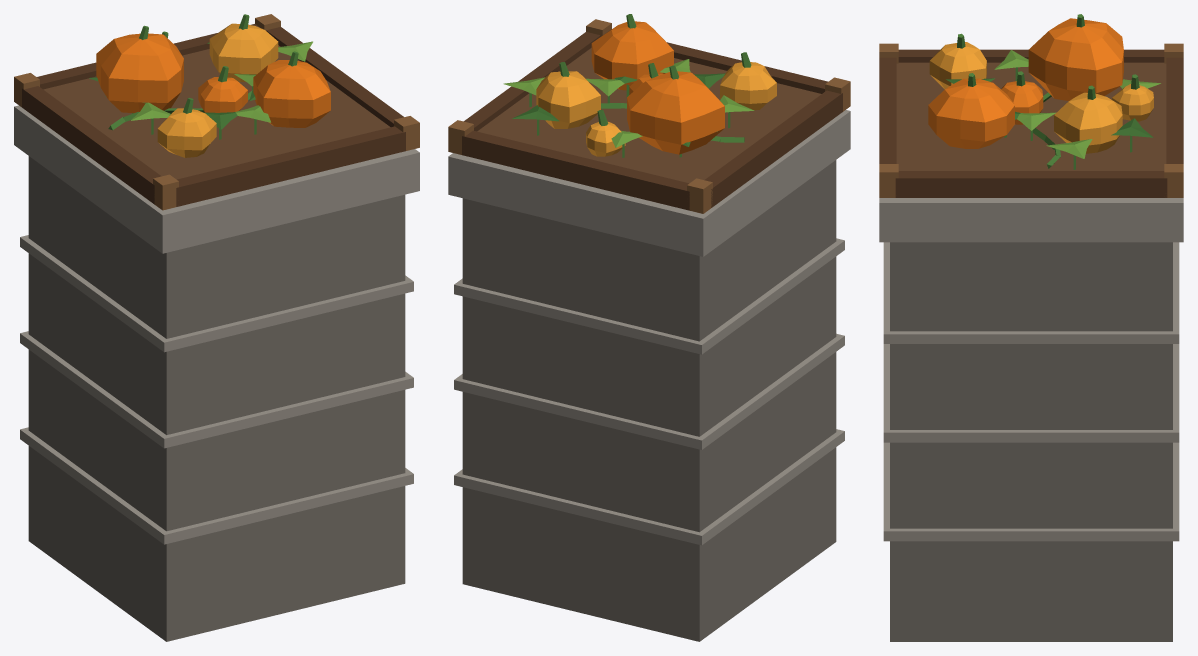
The model's file is decor_pumpkin_patch.glb.
The picture shows the model from 3 angles, left to right: view 1: azimuth 30°, elevation 25°; view 2: azimuth 150°, elevation 25°; view 3: azimuth 270°, elevation 25°; orthographic projection. The views are drawn at different scales.
Parts seen in each view (by area): view 1: decor_pumpkin_patch; view 2: decor_pumpkin_patch; view 3: decor_pumpkin_patch.
Boxes of the visible parts, left/top/right/bottom form: decor_pumpkin_patch: left=14, top=14, right=419, bottom=641; decor_pumpkin_patch: left=448, top=14, right=850, bottom=641; decor_pumpkin_patch: left=879, top=14, right=1183, bottom=641.
Size of the model in its own units: 2.8 by 5.51 by 2.8.
